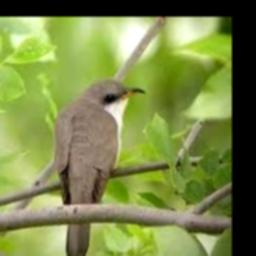Cuckoo: (51, 79, 146, 256)
